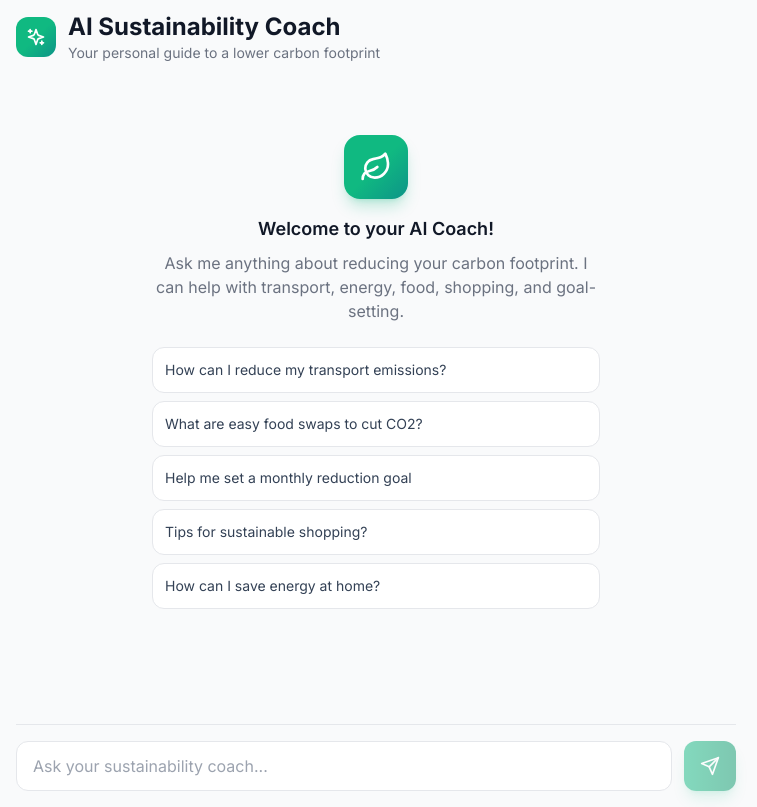
Test: AI Sustainability Coach › populates input when clicking suggested question
Click the button "How can I reduce my transport emissions?": (376, 370) [152, 347, 600, 393]
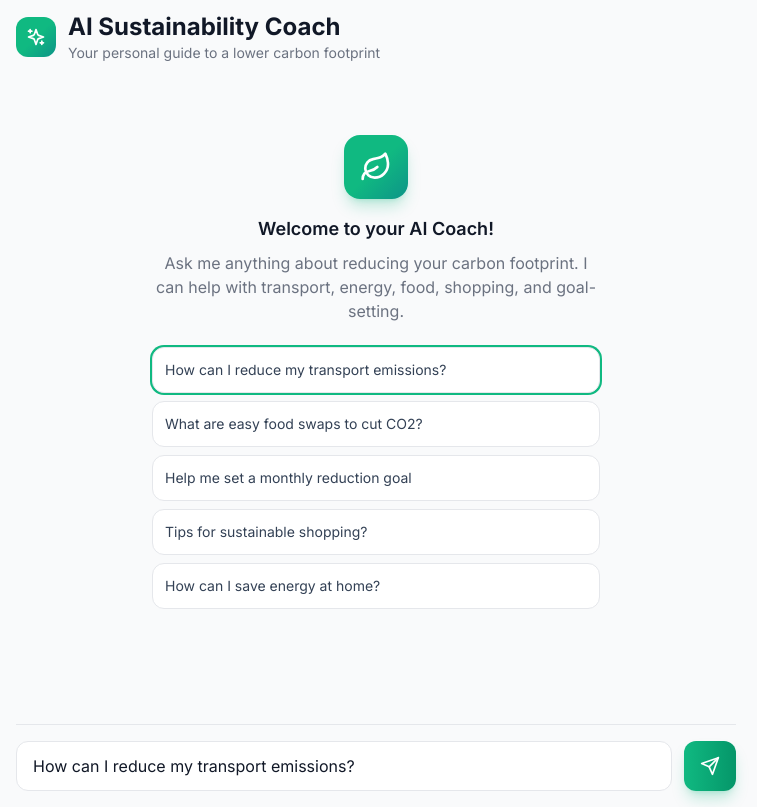
Expected: the field named "Ask your sustainability coach" holds "How can I reduce my transport emissions?", [16, 741, 672, 791]
